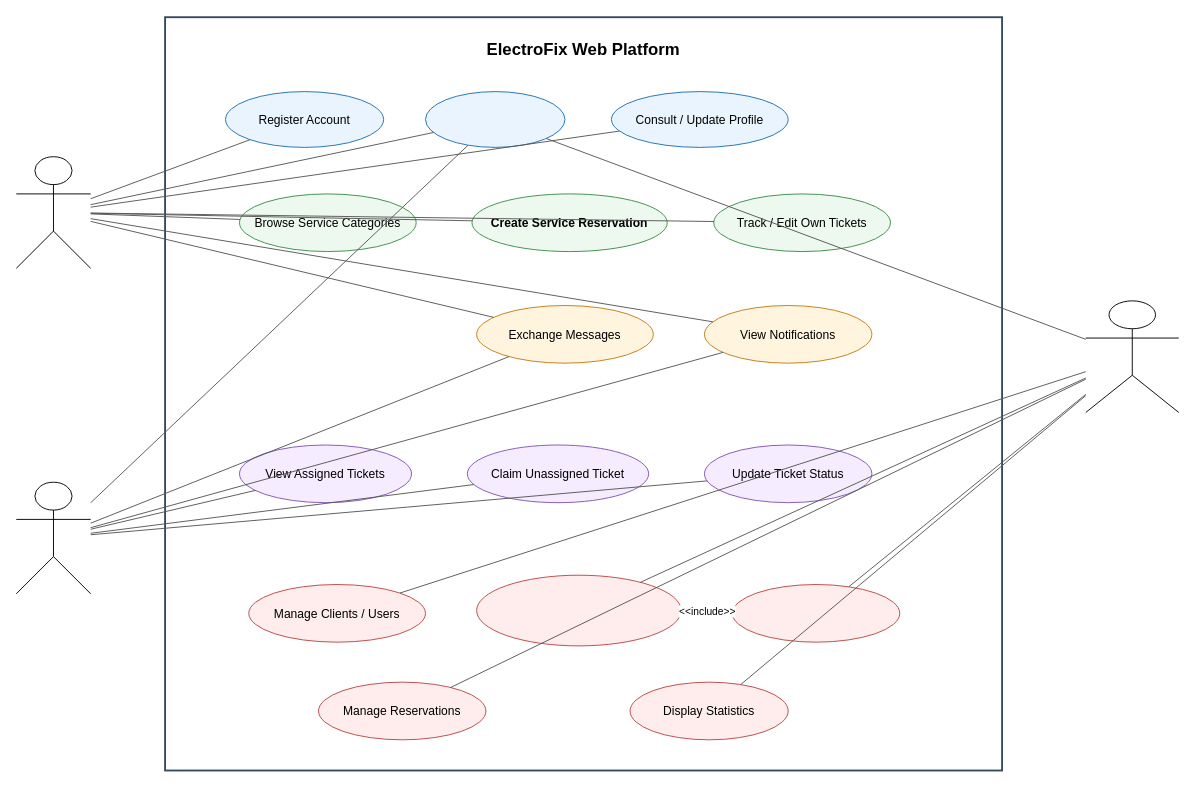
The diagram is 1195 pixels wide and 787 high, and some of its shapes have lost their labels. Here are the shapes that lost their labels. From the top down, the centre of each, then its label:
At (495,119): "Login".
At (53,212): "Client".
At (1132,356): "Administrator".
At (53,537): "Technician".
At (578,610): "Manage Services and Problem Types".
At (815,613): "Upload Service Image".
